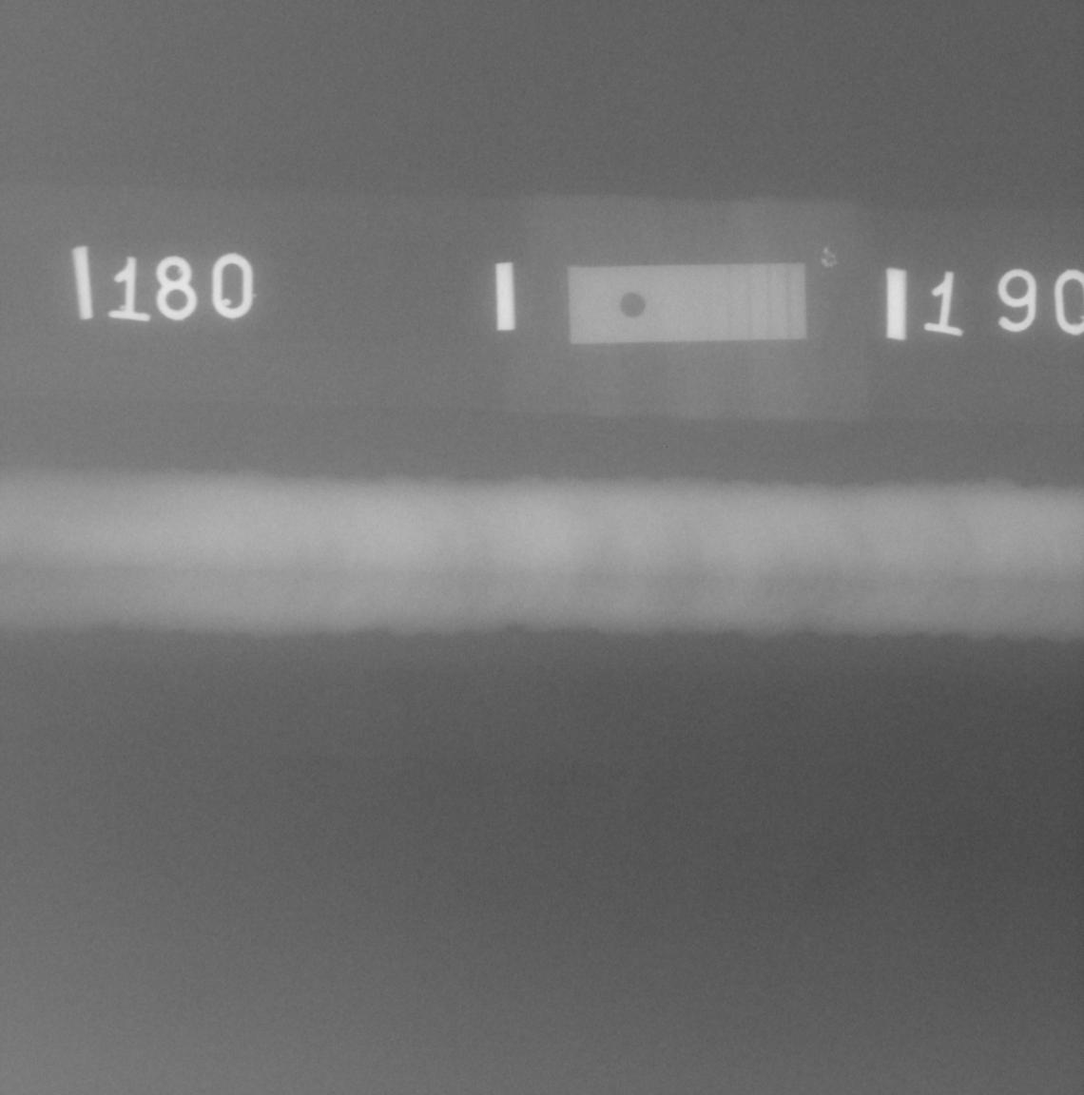Reference Standard 1: (568, 263, 806, 344)
